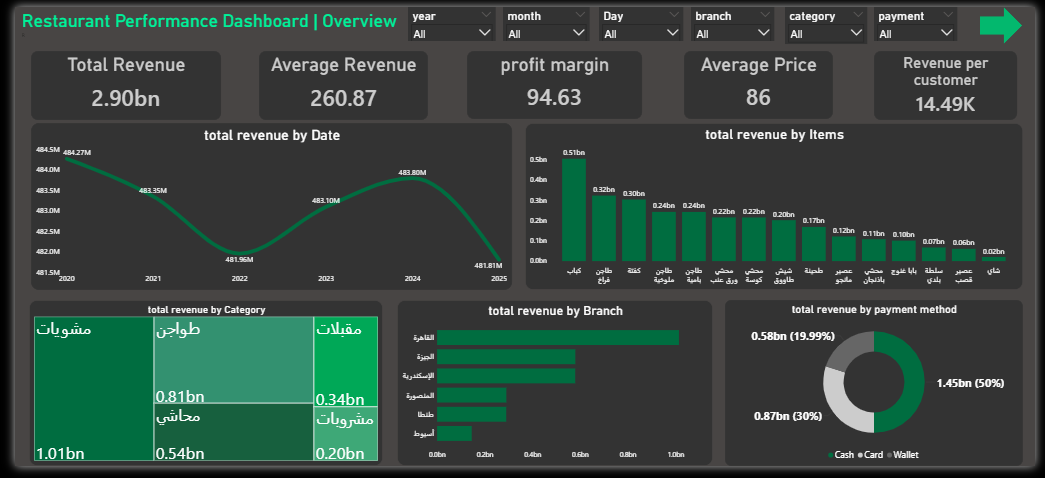

The dashboard page shown, as its layout file describes it:
{"tool":"powerbi","page":{"name":"Overview","canvas":[3000,1350],"ordinal":0},"visuals":[{"type":"lineChart","title":"total revenue by Date","fields":{"Y":["_Measures.total_revenue"],"Category":["restaurant_table.order_date Hierarchy.year","restaurant_table.order_date Hierarchy.month","restaurant_table.order_date Hierarchy.day_name"]},"box":[47.1,341.2,1414.7,491.2],"z":0},{"type":"donutChart","title":"total revenue by payment method","fields":{"Category":["restaurant_table.payment_method"],"Y":["_Measures.total_revenue"]},"box":[2088.2,861.8,876.5,488.2],"z":1000},{"type":"clusteredColumnChart","title":"total revenue by Items","fields":{"Y":["_Measures.total_revenue"],"Category":["restaurant_table.item_name"]},"box":[1500,341.2,1464.7,491.2],"z":2000},{"type":"clusteredBarChart","title":"total revenue by Branch","fields":{"Category":["restaurant_table.branch"],"Y":["_Measures.total_revenue"]},"box":[1123.5,861.8,929.4,488.2],"z":3000},{"type":"treemap","title":"total revenue by Category","fields":{"Group":["restaurant_table.category"],"Values":["_Measures.total_revenue"]},"box":[41.2,861.8,1041.2,488.2],"z":4000},{"type":"cardVisual","title":"Total Revenue","fields":{"Data":["_Measures.total_revenue"]},"box":[47.1,129.4,558.8,202.9],"z":5000},{"type":"cardVisual","title":"profit margin","fields":{"Data":["_Measures.Profit Margin %"]},"box":[1329.4,129.4,514.7,200],"z":8000},{"type":"cardVisual","title":"Revenue per customer","fields":{"Data":["_Measures.Revenue per customer"]},"box":[2526.5,129.4,420.6,202.9],"z":9000},{"type":"cardVisual","title":"Average Price","fields":{"Data":["_Measures.Average Price"]},"box":[1967.6,129.4,438.2,200],"z":10000},{"type":"cardVisual","title":"Average Revenue","fields":{"Data":["_Measures.Average Revnue"]},"box":[717.6,129.4,497.1,202.9],"z":11000},{"type":"textbox","title":"Restaurant Performance Dashboard | Overview","box":[15.2,9.1,1139.4,100],"z":12000},{"type":"slicer","fields":{"Values":["restaurant_table.year"]},"box":[1154.5,0,257.6,100],"z":13000},{"type":"slicer","fields":{"Values":["restaurant_table.month"]},"box":[1436.4,0,254.5,100],"z":14000},{"type":"slicer","fields":{"Values":["restaurant_table.day_name"]},"box":[1718.2,0,248.5,100],"z":15000},{"type":"slicer","fields":{"Values":["restaurant_table.branch"]},"box":[1987.9,0,245.5,100],"z":16000},{"type":"slicer","fields":{"Values":["restaurant_table.payment_method"]},"box":[2527.3,0,245.5,100],"z":17000},{"type":"slicer","fields":{"Values":["restaurant_table.category"]},"box":[2263.6,0,242.4,109.1],"z":18000},{"type":"shape","box":[2839.4,0,124.2,109.1],"z":19000}]}

Visuals, with their boxes in screenshot pixels (x1, y1, x2, y2), scaled from the page's 3000x1350 canvas onto the 1045x478 screenshot:
"total revenue by Date" lineChart: {"left": 16, "top": 121, "right": 509, "bottom": 295}
"total revenue by payment method" donutChart: {"left": 727, "top": 305, "right": 1033, "bottom": 477}
"total revenue by Items" clusteredColumnChart: {"left": 522, "top": 121, "right": 1033, "bottom": 295}
"total revenue by Branch" clusteredBarChart: {"left": 391, "top": 305, "right": 715, "bottom": 477}
"total revenue by Category" treemap: {"left": 14, "top": 305, "right": 377, "bottom": 477}
"Total Revenue" cardVisual: {"left": 16, "top": 46, "right": 211, "bottom": 118}
"profit margin" cardVisual: {"left": 463, "top": 46, "right": 642, "bottom": 117}
"Revenue per customer" cardVisual: {"left": 880, "top": 46, "right": 1027, "bottom": 118}
"Average Price" cardVisual: {"left": 685, "top": 46, "right": 838, "bottom": 117}
"Average Revenue" cardVisual: {"left": 250, "top": 46, "right": 423, "bottom": 118}
"Restaurant Performance Dashboard | Overview" textbox: {"left": 5, "top": 3, "right": 402, "bottom": 39}
slicer - restaurant_table.year: {"left": 402, "top": 0, "right": 492, "bottom": 35}
slicer - restaurant_table.month: {"left": 500, "top": 0, "right": 589, "bottom": 35}
slicer - restaurant_table.day_name: {"left": 599, "top": 0, "right": 685, "bottom": 35}
slicer - restaurant_table.branch: {"left": 692, "top": 0, "right": 778, "bottom": 35}
slicer - restaurant_table.payment_method: {"left": 880, "top": 0, "right": 966, "bottom": 35}
slicer - restaurant_table.category: {"left": 788, "top": 0, "right": 873, "bottom": 39}
shape: {"left": 989, "top": 0, "right": 1032, "bottom": 39}
